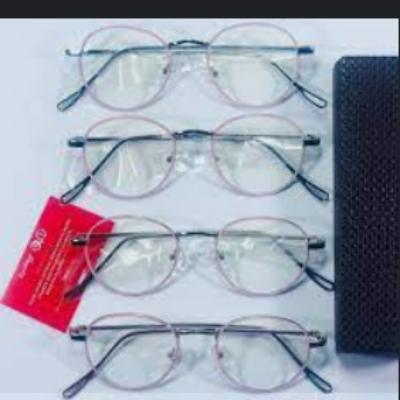glasses: (56, 17, 328, 118), (61, 114, 331, 208), (65, 212, 336, 302), (64, 309, 332, 399)
